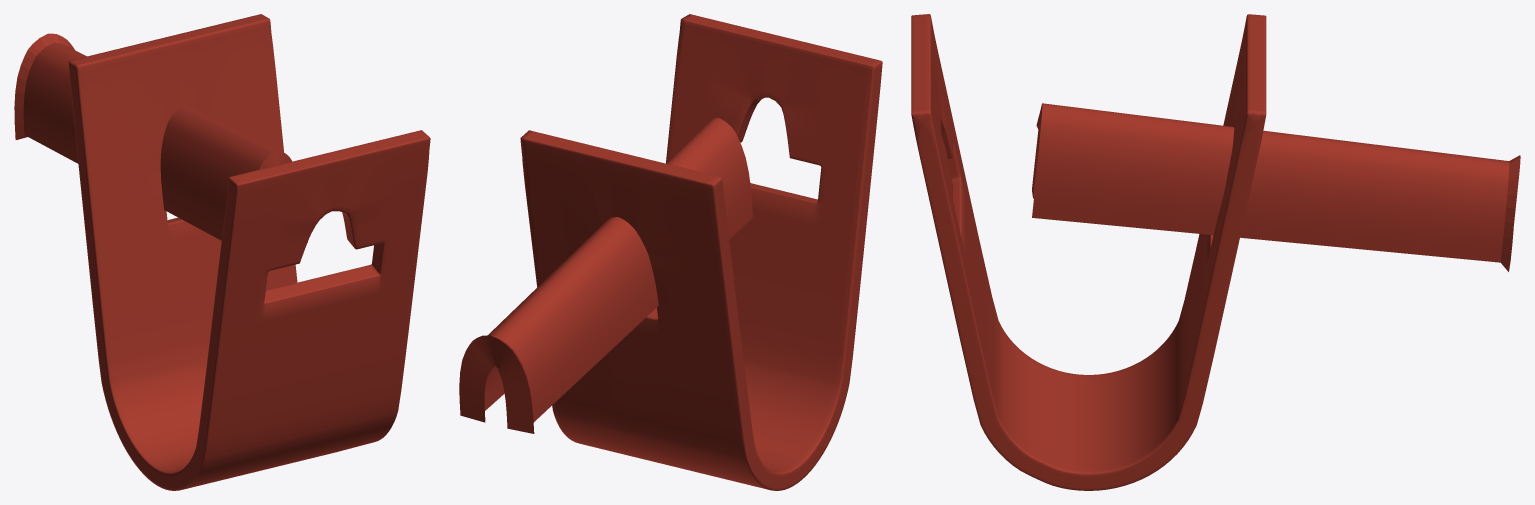
Rendered from half_coupler.glb.
3 renders of one model, left to right at view 1: azimuth 30°, elevation 25°; view 2: azimuth 150°, elevation 25°; view 3: azimuth 270°, elevation 25°, orthographic. The views are drawn at different scales.
Visible parts, largest first — view 1: Tube002, objct1; view 2: Tube002, objct1; view 3: Tube002, objct1.
Boxes of the visible parts, bbox=[...] form: Tube002: bbox=[68, 14, 430, 490]; objct1: bbox=[14, 33, 307, 242]; Tube002: bbox=[520, 14, 882, 490]; objct1: bbox=[459, 118, 752, 433]; Tube002: bbox=[911, 14, 1266, 490]; objct1: bbox=[1032, 103, 1520, 271].
Size of the model in its own units: 0.06 by 0.1068 by 0.1557.
Materials: 1 (1 with a texture image).
